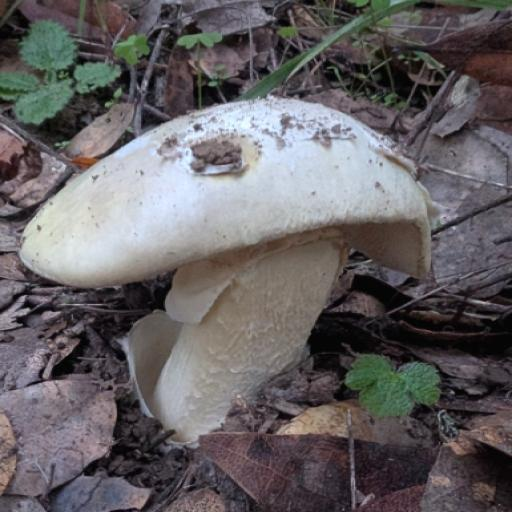mushroom: (2, 17, 466, 459)
